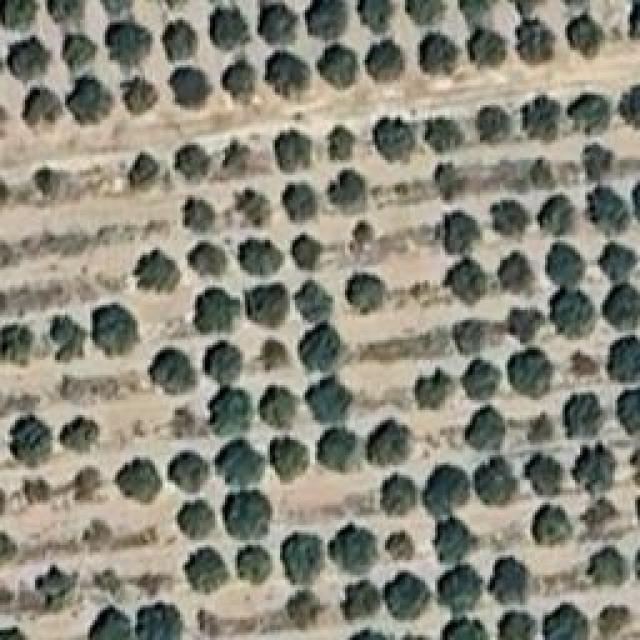Tree: (422, 465, 470, 520), (330, 523, 379, 575), (65, 75, 113, 125), (215, 440, 265, 488), (93, 305, 139, 357), (573, 443, 618, 495), (438, 565, 483, 616), (10, 415, 53, 468), (305, 375, 353, 422), (225, 490, 270, 540), (508, 348, 553, 398), (105, 20, 151, 68), (385, 573, 431, 621), (298, 322, 342, 372), (588, 186, 632, 236), (283, 533, 324, 586), (210, 387, 253, 437), (195, 288, 241, 334), (115, 458, 161, 504), (550, 290, 595, 337), (265, 52, 309, 100), (475, 458, 519, 506), (150, 350, 196, 395), (185, 548, 230, 594), (445, 258, 489, 305), (368, 420, 411, 467), (545, 243, 587, 290), (373, 118, 416, 163), (488, 558, 529, 605), (10, 38, 51, 84), (433, 518, 474, 564), (138, 250, 181, 293), (597, 239, 640, 282), (583, 545, 627, 587), (520, 95, 560, 141), (495, 250, 533, 298), (318, 427, 358, 472), (318, 45, 358, 90), (518, 20, 557, 66), (328, 170, 367, 216), (568, 93, 611, 134), (443, 210, 482, 255), (270, 437, 309, 482), (465, 405, 504, 450), (567, 13, 605, 59), (170, 70, 213, 110), (245, 288, 288, 328), (260, 385, 300, 428), (565, 392, 603, 437), (603, 285, 640, 331), (35, 565, 76, 606), (345, 273, 386, 314), (463, 358, 503, 400), (365, 40, 404, 83), (205, 343, 244, 386), (525, 453, 564, 496), (240, 238, 284, 276), (50, 315, 86, 361), (218, 55, 253, 102), (168, 454, 209, 494), (533, 505, 573, 546), (260, 3, 299, 45), (420, 33, 459, 75), (275, 130, 313, 173), (380, 473, 418, 516), (415, 368, 454, 409), (295, 280, 333, 322), (212, 8, 250, 50), (537, 195, 575, 237), (545, 605, 590, 640), (468, 27, 507, 67), (343, 580, 382, 620), (607, 335, 640, 382), (307, 0, 346, 39), (23, 88, 63, 126), (177, 500, 215, 540), (285, 590, 323, 630), (60, 415, 101, 452), (138, 605, 181, 640), (163, 20, 198, 62), (120, 78, 158, 116), (490, 200, 530, 236), (89, 607, 132, 640), (283, 182, 318, 222), (235, 187, 269, 227), (425, 120, 465, 153), (175, 144, 211, 180), (508, 308, 544, 344), (478, 108, 513, 145), (238, 545, 272, 583), (63, 35, 97, 72), (0, 327, 32, 365), (583, 143, 614, 181), (190, 243, 225, 276), (293, 233, 324, 270), (435, 163, 465, 201), (128, 154, 161, 188), (185, 198, 215, 234), (453, 320, 483, 356), (360, 0, 392, 33), (73, 467, 103, 502), (460, 0, 497, 28), (443, 618, 489, 640), (618, 390, 640, 436), (223, 140, 253, 173), (0, 0, 35, 28), (327, 125, 355, 160), (600, 608, 631, 639), (405, 0, 443, 25), (260, 340, 289, 371), (620, 85, 640, 128), (528, 413, 554, 445), (500, 615, 533, 640), (48, 0, 85, 22), (93, 565, 121, 594), (385, 532, 413, 560), (25, 478, 53, 505), (38, 170, 63, 200), (572, 350, 600, 376), (530, 158, 553, 188), (353, 220, 374, 252), (510, 0, 543, 17), (103, 0, 135, 16), (630, 0, 640, 38)
